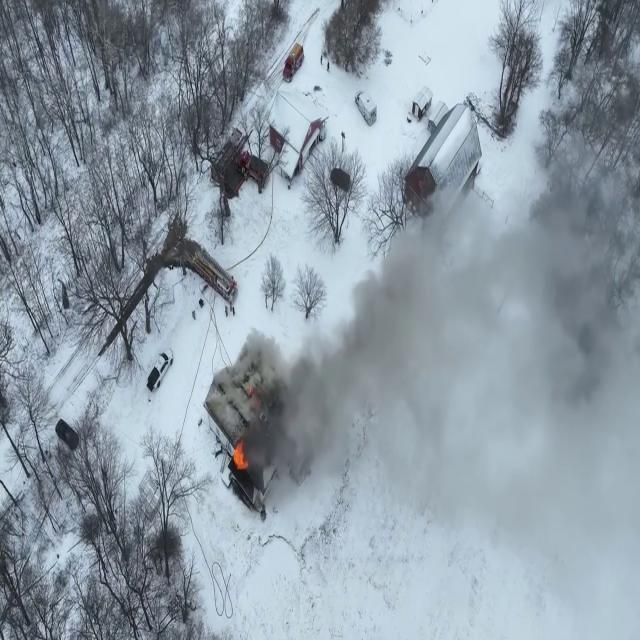Fire: (230, 430, 247, 477)
Smoke: (249, 38, 640, 630)
